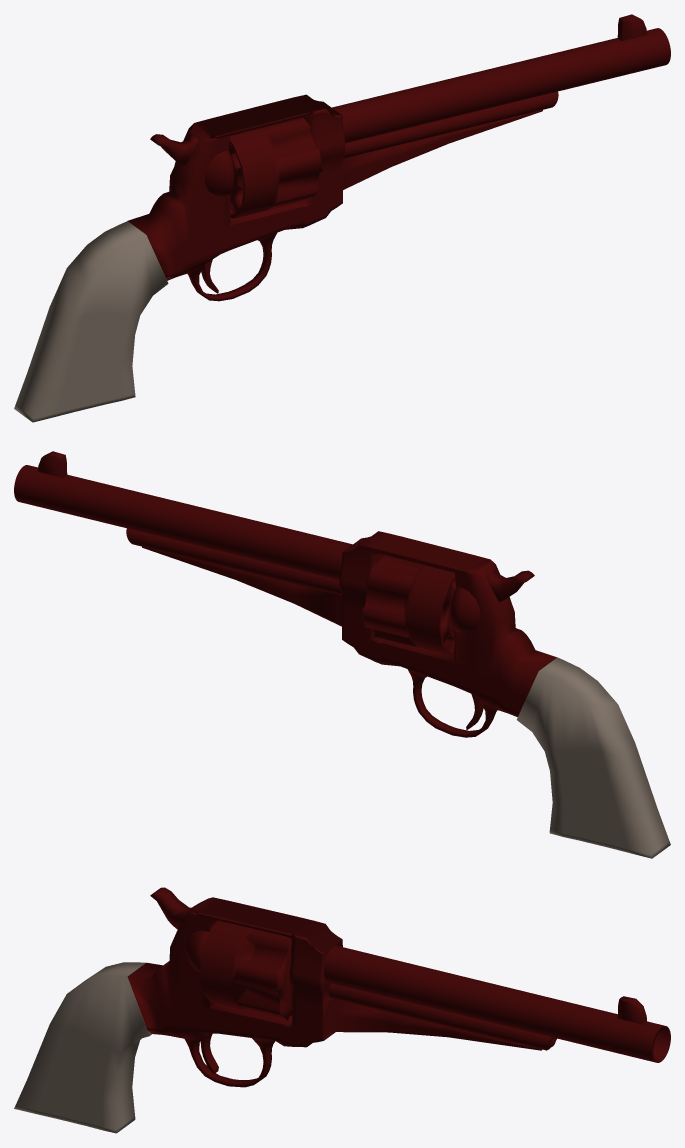
The model's file is Pistols.fbx.
3 views of the same model, one above another, from view 1: azimuth 30°, elevation 25°; view 2: azimuth 150°, elevation 25°; view 3: azimuth 330°, elevation 25° (orthographic).
Parts seen in each view (by area): view 1: Revolver 1; view 2: Revolver 1; view 3: Revolver 1.
Part boxes in pixels (x1=…): Revolver 1: x1=14, y1=14, x2=670, y2=422; Revolver 1: x1=14, y1=451, x2=670, y2=858; Revolver 1: x1=14, y1=887, x2=670, y2=1133.
Size of the model in its own units: 108 by 40.69 by 13.71.
